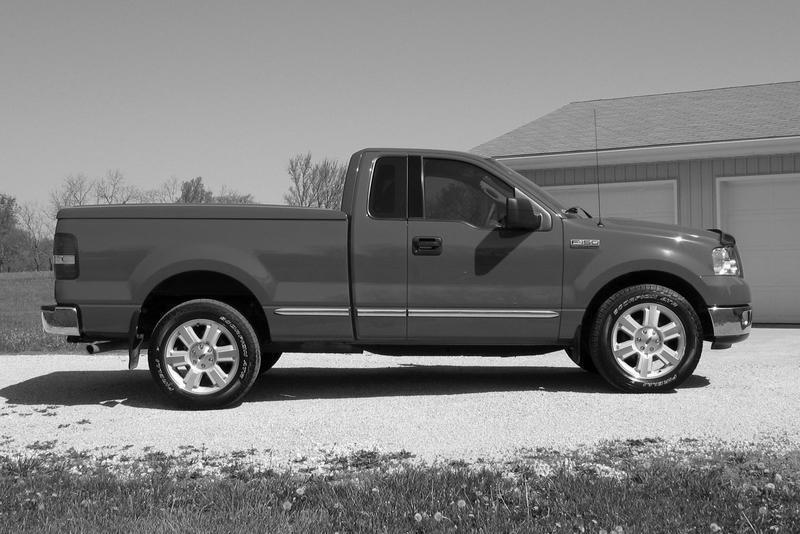car: (42, 147, 753, 414)
